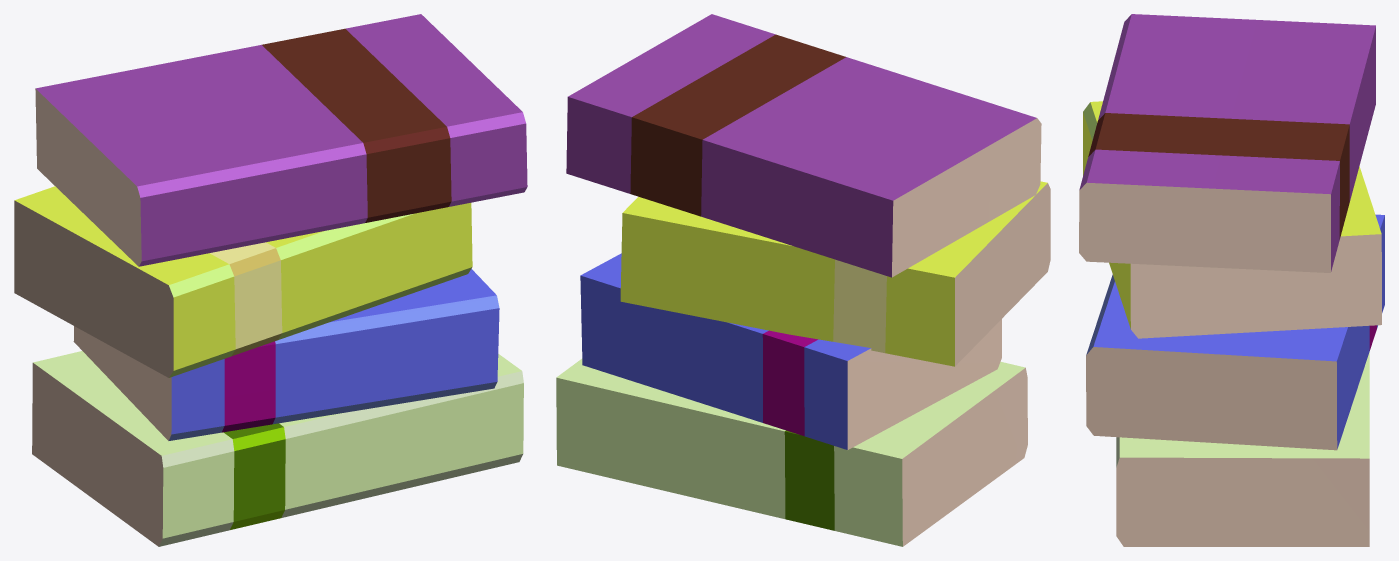
File: Books_Horizontal_2025.fbx
The picture shows the model from 3 angles, left to right: view 1: azimuth 30°, elevation 25°; view 2: azimuth 150°, elevation 25°; view 3: azimuth 270°, elevation 25°; orthographic projection. The views are drawn at different scales.
Visible parts, largest first — view 1: Books; view 2: Books; view 3: Books.
Part boxes in pixels (bbox=[...]): Books: bbox=[14, 14, 527, 546]; Books: bbox=[556, 14, 1050, 546]; Books: bbox=[1079, 14, 1384, 546].
Size of the model in its own units: 0.4742 by 0.4097 by 0.3182.
